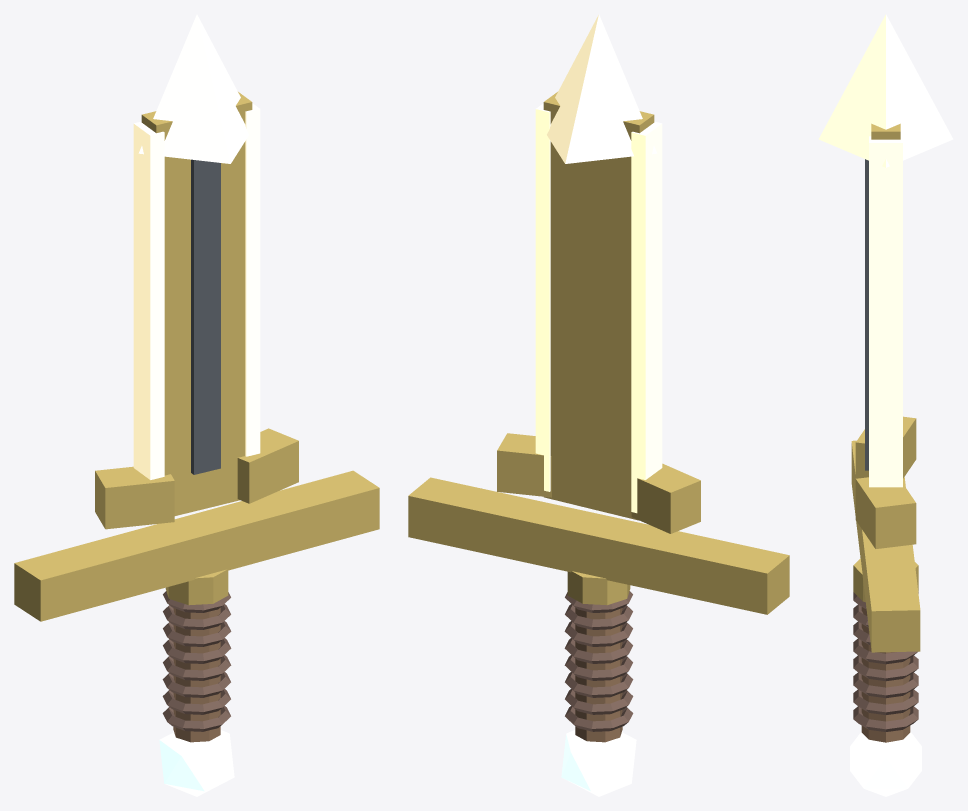
The model's file is golden_great_sword.glb.
3 views of the same model, side by side, from view 1: azimuth 30°, elevation 25°; view 2: azimuth 150°, elevation 25°; view 3: azimuth 270°, elevation 25° (orthographic).
Parts seen in each view (by area): view 1: Crossguard.006, Blade.006, EdgeLeft.006, Fuller.008, BladePoint.006, EdgeRight.006, SideLug_-1.001, Pommel.006, SideLug_1.001, GripCore.006, GripFerrule.006, GripWrap_1.016 (+6 smaller); view 2: Blade.006, Crossguard.006, EdgeLeft.006, BladePoint.006, EdgeRight.006, Pommel.006, SideLug_-1.001, GripCore.006, SideLug_1.001, GripFerrule.006, GripWrap_1.016, GripWrap_2.016 (+5 smaller); view 3: EdgeRight.006, BladePoint.006, Crossguard.006, Pommel.006, SideLug_1.001, GripCore.006, Fuller.008, SideLug_-1.001, GripWrap_1.016, GripWrap_2.016, GripWrap_3.016, GripWrap_0.016 (+3 smaller).
Boxes of the visible parts, x1,y1,x2,y2 form: Crossguard.006: (14,470,379,621); Blade.006: (141,92,252,515); EdgeLeft.006: (133,121,164,479); Fuller.008: (191,159,220,474); BladePoint.006: (138,14,248,163); EdgeRight.006: (245,103,260,456); SideLug_-1.001: (95,466,174,529); Pommel.006: (159,730,234,796); SideLug_1.001: (237,428,298,503); GripCore.006: (173,607,220,742); GripFerrule.006: (165,569,228,605); GripWrap_1.016: (162,689,230,714); Blade.006: (543,92,654,520); Crossguard.006: (408,477,789,614); EdgeLeft.006: (631,121,662,513); BladePoint.006: (547,14,657,163); EdgeRight.006: (535,103,550,491); Pommel.006: (561,730,636,796); SideLug_-1.001: (631,463,700,533); GripCore.006: (575,607,622,742); SideLug_1.001: (497,433,551,497); GripFerrule.006: (567,571,630,605); GripWrap_1.016: (565,689,633,714); GripWrap_2.016: (565,672,633,697); EdgeRight.006: (869,136,902,487); BladePoint.006: (818,14,953,167); Crossguard.006: (851,440,920,652); Pommel.006: (850,731,921,796); SideLug_1.001: (855,477,916,548); GripCore.006: (861,607,910,742); Fuller.008: (865,159,868,470); SideLug_-1.001: (855,416,916,478); GripWrap_1.016: (853,689,918,714); GripWrap_2.016: (853,672,918,698); GripWrap_3.016: (853,655,918,681); GripWrap_0.016: (853,706,918,731).
Size of the model in its own units: 1.25 by 2.65 by 0.4148.
